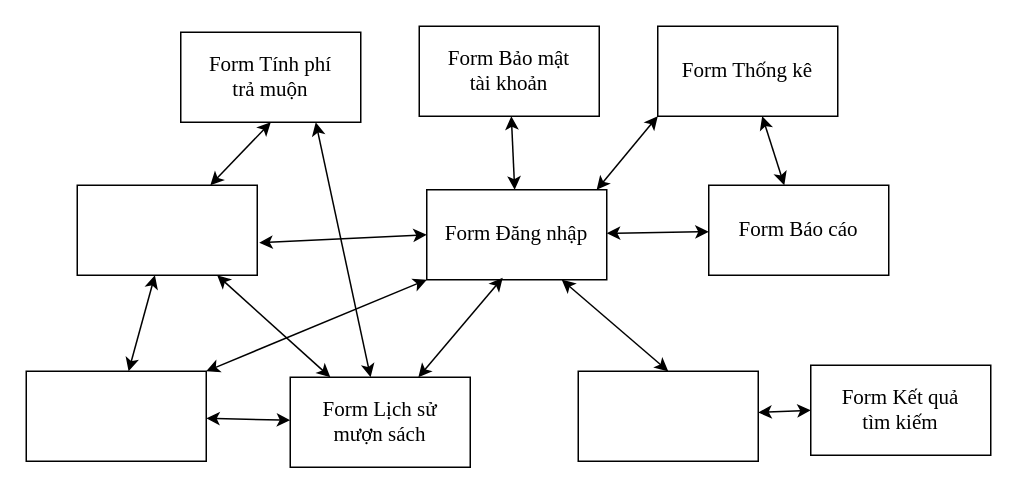
Some shapes in this 1017 by 494 pixel diagram are drawn without their labels. Here are the shapes that lost their labels. From the top down, the centre of each, then its label:
(166,229): Form Phiếu mượn sách
(115,415): Form Kiểm tra thông tin SV
(667,415): Form Tìm kiếm
